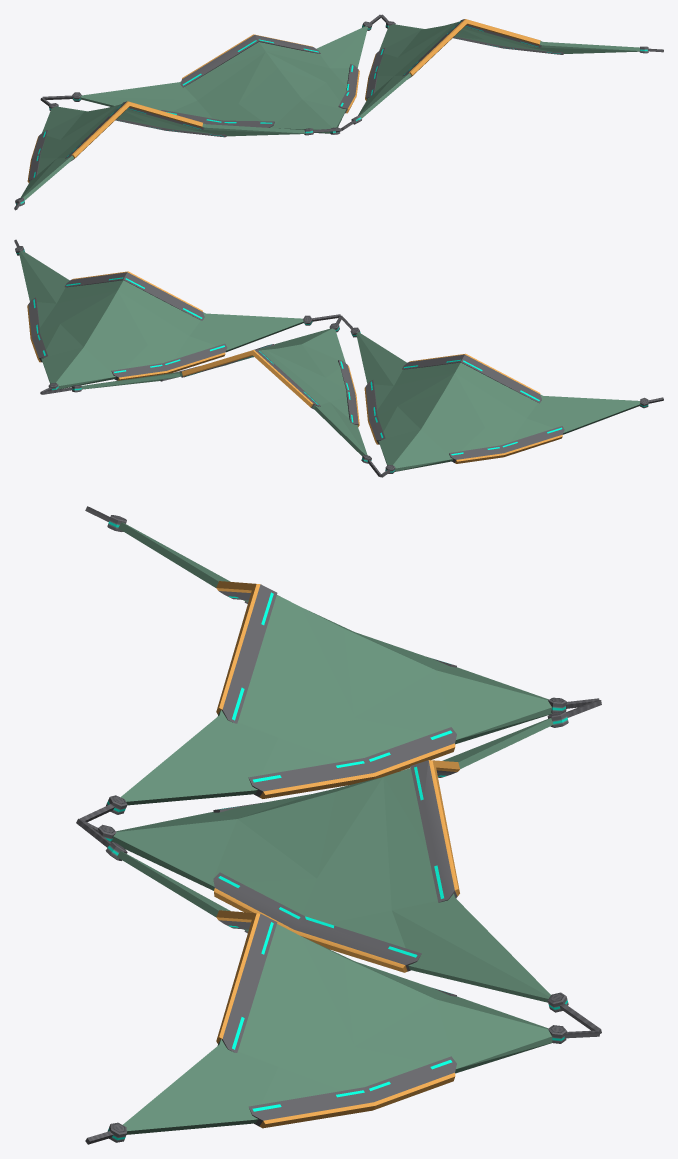
File: SM_Prop_Canopy_03.fbx
3 views of the same model, one above another, from view 1: azimuth 30°, elevation 25°; view 2: azimuth 150°, elevation 25°; view 3: azimuth 270°, elevation 25° (orthographic). The views are drawn at different scales.
Parts seen in each view (by area): view 1: SM_Prop_Canopy_03; view 2: SM_Prop_Canopy_03; view 3: SM_Prop_Canopy_03.
Boxes of the visible parts, x1,y1,x2,y2 form: SM_Prop_Canopy_03: (14,14,663,210); SM_Prop_Canopy_03: (14,239,663,477); SM_Prop_Canopy_03: (76,506,601,1144).
Size of the model in its own units: 1581 by 154 by 554.
